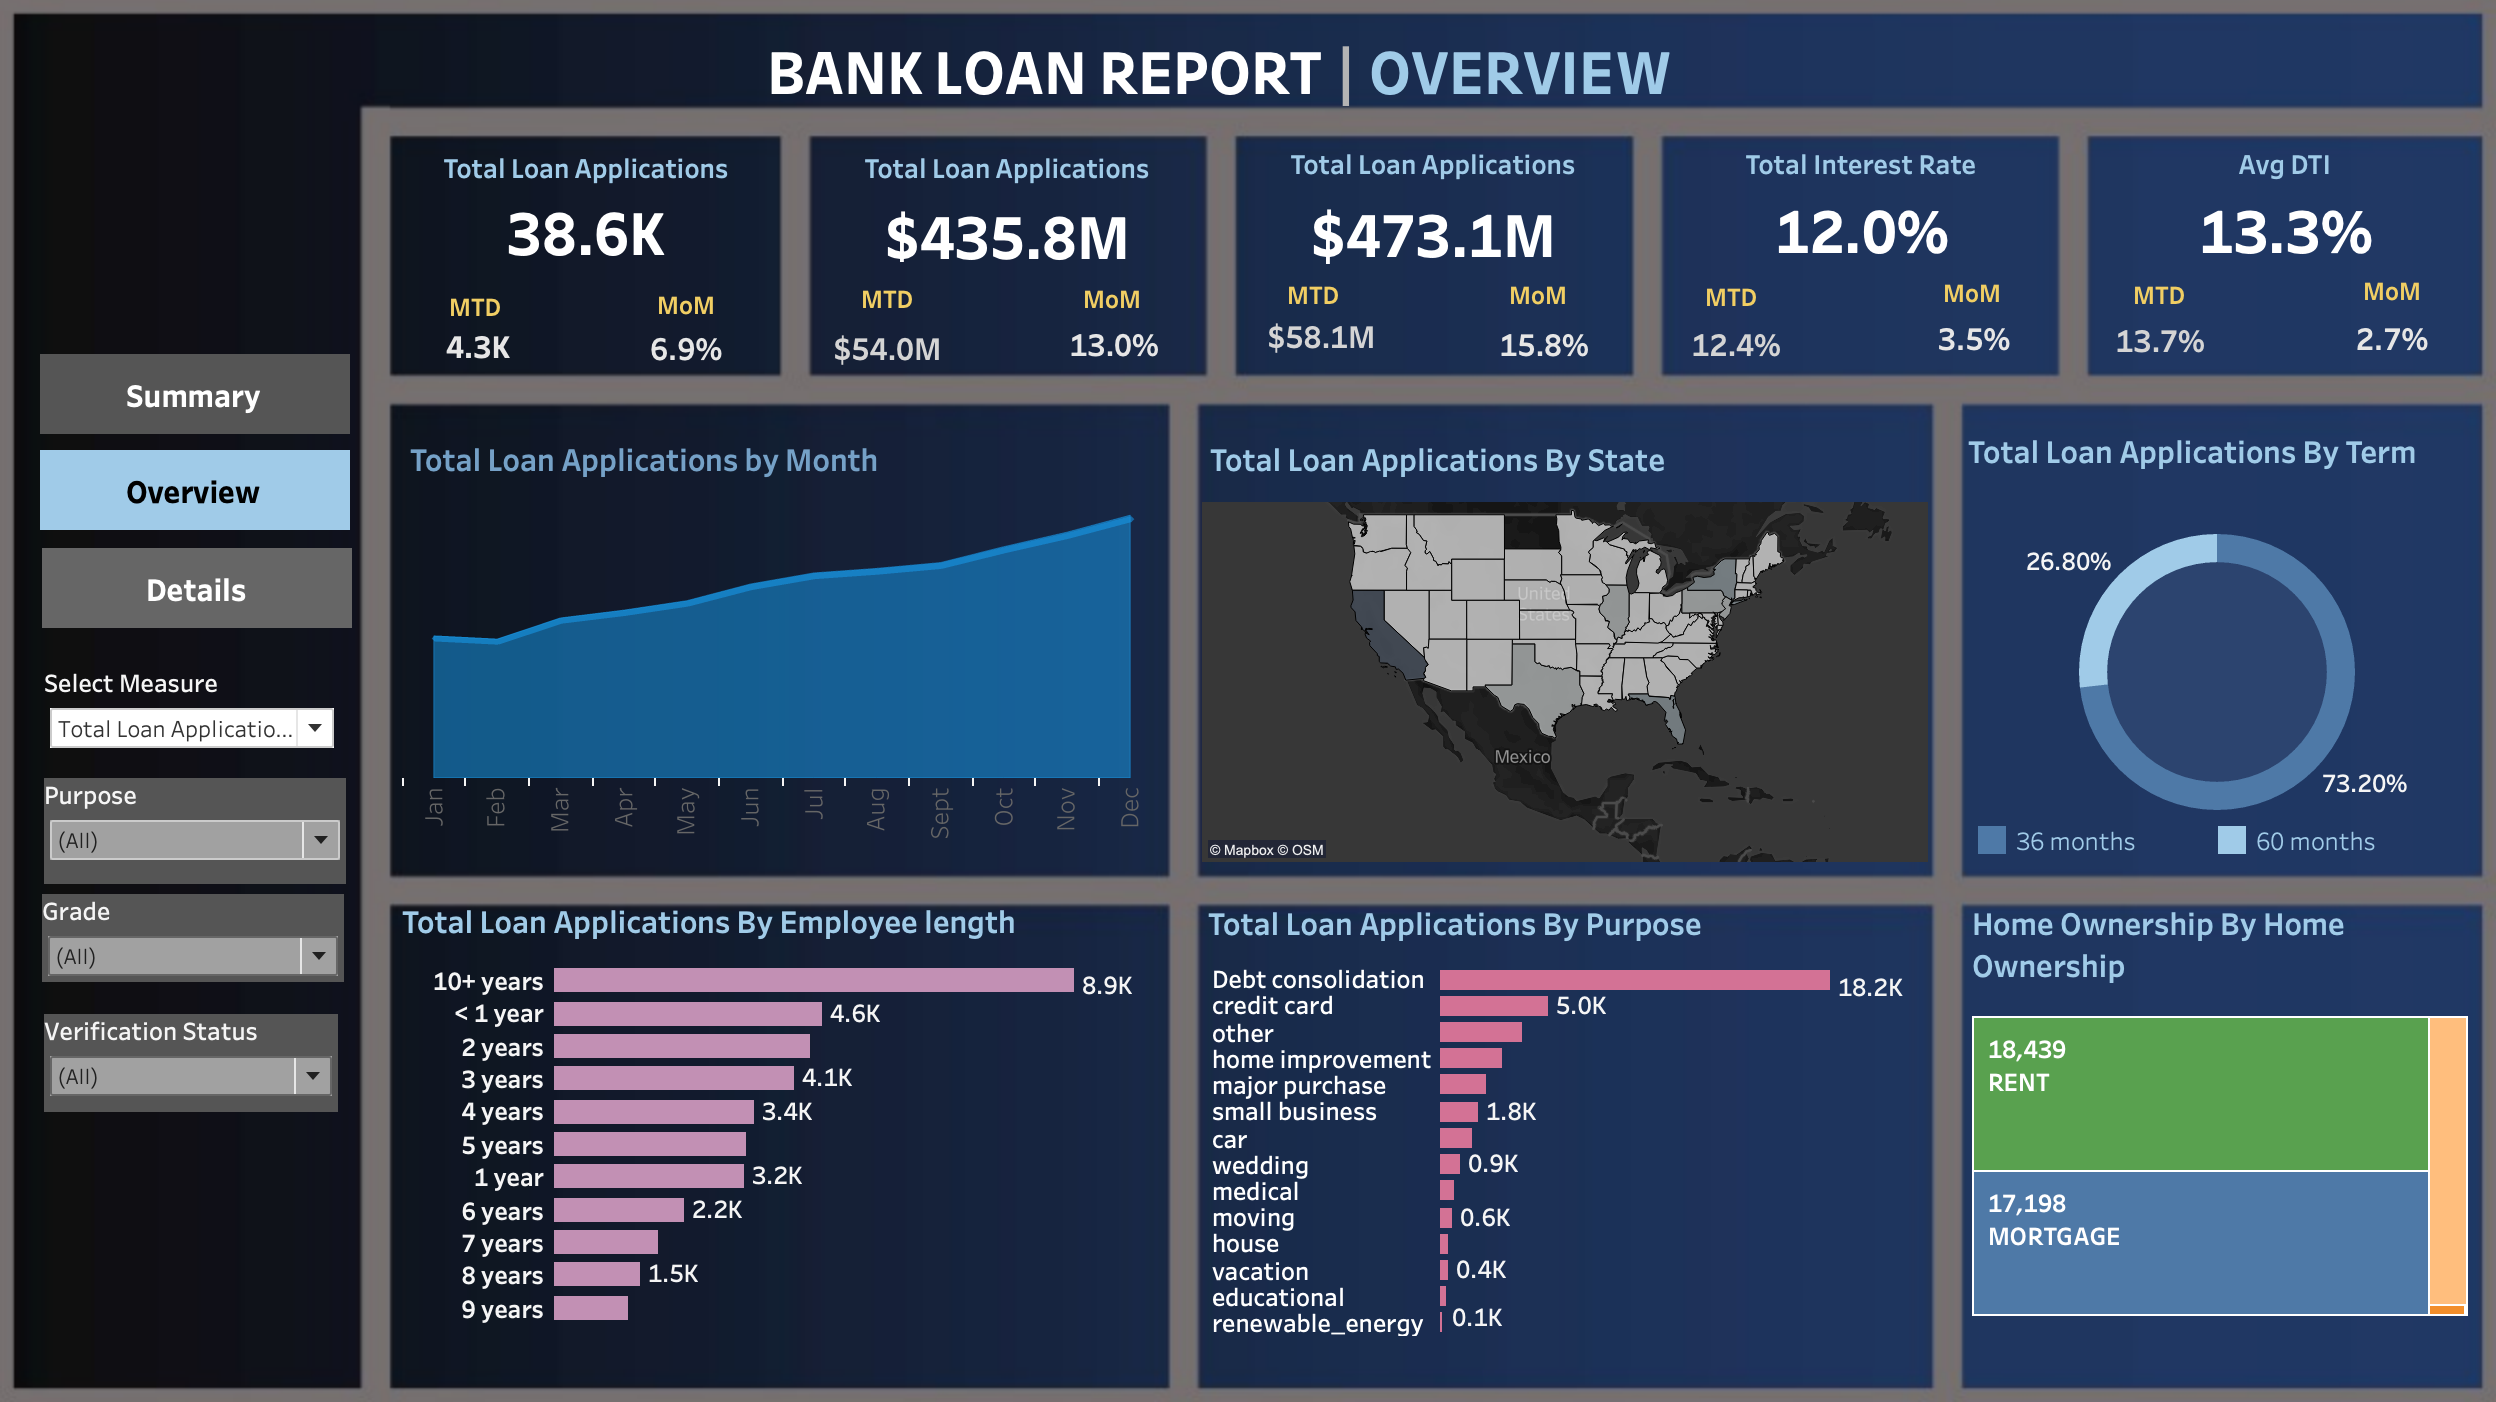

What the dashboard file says about the page in this screenshot:
{"tool":"tableau","page":{"name":"Overview","canvas":[1000,1000],"units":"permille","ordinal":1},"visuals":[{"type":"image","param":"/Users/namanmodi/Desktop/data analyst/SQL_Tableau/Tableau Background 2.jpg","box":[6.8,10.5,986.5,978.9]},{"type":"text","box":[306.9,84.3,421.8,46.1]},{"type":"worksheet","title":"Total Loan Applications","mark":"Automatic","box":[164.8,150.2,153,75.1]},{"type":"worksheet","title":"Total Funded Amount","mark":"Automatic","box":[328.8,151.5,154.7,79]},{"type":"worksheet","title":"Avg Interest Rate","mark":"Automatic","box":[661,152.8,156.4,77.7]},{"type":"worksheet","title":"Total Amount Recieved","mark":"Automatic","box":[495.4,154.2,156.4,76.4]},{"type":"worksheet","title":"Avg DTI","mark":"Automatic","box":[829.2,154.2,154.7,77.7]},{"type":"text","box":[512.3,230.6,25.4,32.9]},{"type":"text","box":[183.4,233.2,25.4,32.9]},{"type":"text","box":[266.3,233.2,28.7,32.9]},{"type":"text","box":[345.7,234.5,25.4,32.9]},{"type":"text","box":[676.2,234.5,25.4,32.9]},{"type":"text","box":[601,235.8,29.6,32.9]},{"type":"text","box":[934.9,235.8,25.4,32.9]},{"type":"text","box":[773.5,237.2,27.9,26.4]},{"type":"text","box":[844.5,237.2,25.4,32.9]},{"type":"text","box":[433.6,238.5,26.2,22.4]},{"type":"worksheet","title":"MTD Total Funded Amount","mark":"Automatic","box":[333.9,242.4,53.2,67.2]},{"type":"worksheet","title":"MoM Total Funded Amount","mark":"Automatic","box":[424.3,249,51.6,56.6]},{"type":"worksheet","title":"MTD Total Amount Recieved","mark":"Automatic","box":[501.3,251.7,53.2,50.1]},{"type":"worksheet","title":"MTD Avg Int Rate","mark":"Automatic","box":[662.7,253,55.8,46.1]},{"type":"worksheet","title":"MoM Total Amount Recieved","mark":"Automatic","box":[593.4,254.3,44.8,43.5]},{"type":"worksheet","title":"MoM Avg Int Rate","mark":"Automatic","box":[763.3,254.3,49.9,44.8]},{"type":"worksheet","title":"MTD Avg DTI","mark":"Automatic","box":[836,256.9,46.5,42.2]},{"type":"worksheet","title":"MoM Avg DTI","mark":"Automatic","box":[921.4,258.2,55.8,38.2]},{"type":"worksheet","title":"MoM Loan Applications","mark":"Automatic","box":[262.1,260.9,37.2,35.6]},{"type":"worksheet","title":"MTD Total Loan Applications","mark":"Automatic","box":[175.8,267.5,41.4,23.7]},{"type":"dashboard-object","box":[25.4,271.4,121.8,52.7]},{"type":"worksheet","title":"Term","mark":"Pie","rows":["Calculation_404057362442485800","Calculation_404057362442539050"],"box":[780.2,316.2,202,281.9]},{"type":"worksheet","title":"Month","mark":"Line","rows":["Calculation_404057362386935846","Calculation_404057362386935846"],"cols":["issue_date"],"box":[167.4,321.5,298.4,281.9]},{"type":"worksheet","title":"State","mark":"Multipolygon","box":[481.8,321.5,285.7,284.6]},{"type":"dashboard-object","box":[25.4,334.7,121.8,52.7]},{"type":"dashboard-object","box":[26.2,399.2,121.8,52.7]},{"type":"parameter","param":"[Parameters].[Parameter 1]","box":[27.1,476.9,116.7,58]},{"type":"filter","title":"Avg DTI","param":"[federated.04y64lk14kpcn818f40231uultjz].[none:purpose:nk]","box":[27.1,550.7,118.3,69.8]},{"type":"legend","title":"Term","param":"[federated.04y64lk14kpcn818f40231uultjz].[none:term:nk]","box":[784.5,578.4,207.1,26.4]},{"type":"worksheet","title":"Emp Length","mark":"Automatic","rows":["emp_length"],"cols":["Calculation_404057362386935846"],"box":[164,625.8,304.3,284.6]},{"type":"filter","title":"Avg DTI","param":"[federated.04y64lk14kpcn818f40231uultjz].[none:grade:nk]","box":[26.2,627.1,118.3,58]},{"type":"worksheet","title":"Purpose","mark":"Automatic","rows":["purpose"],"cols":["Calculation_404057362386935846"],"box":[481,627.1,287.4,291.2]},{"type":"worksheet","title":"Home Ownership","mark":"Automatic","box":[781.7,627.1,200.5,292.5]},{"type":"filter","title":"Avg DTI","param":"[federated.04y64lk14kpcn818f40231uultjz].[none:verification_status:nk]","box":[27.1,706.2,115.8,64.6]}]}

Visuals, with their boxes on the dashboard's canvas, which has no fixed pixel size, in thousandths of its width and height (x1, y1, x2, y2). These are canvas units, not pixel positions in the 2496x1402 screenshot, which may show the page scaled, cropped or inside an application window:
image: 7 10 993 989
text: 307 84 729 130
"Total Loan Applications" worksheet: 165 150 318 225
"Total Funded Amount" worksheet: 329 152 484 230
"Avg Interest Rate" worksheet: 661 153 817 230
"Total Amount Recieved" worksheet: 495 154 652 231
"Avg DTI" worksheet: 829 154 984 232
text: 512 231 538 264
text: 183 233 209 266
text: 266 233 295 266
text: 346 234 371 267
text: 676 234 702 267
text: 601 236 631 269
text: 935 236 960 269
text: 774 237 801 264
text: 844 237 870 270
text: 434 238 460 261
"MTD Total Funded Amount" worksheet: 334 242 387 310
"MoM Total Funded Amount" worksheet: 424 249 476 306
"MTD Total Amount Recieved" worksheet: 501 252 554 302
"MTD Avg Int Rate" worksheet: 663 253 718 299
"MoM Total Amount Recieved" worksheet: 593 254 638 298
"MoM Avg Int Rate" worksheet: 763 254 813 299
"MTD Avg DTI" worksheet: 836 257 882 299
"MoM Avg DTI" worksheet: 921 258 977 296
"MoM Loan Applications" worksheet: 262 261 299 296
"MTD Total Loan Applications" worksheet: 176 268 217 291
dashboard-object: 25 271 147 324
"Term" worksheet (Pie marks): 780 316 982 598
"Month" worksheet (Line marks): 167 322 466 603
"State" worksheet (Multipolygon marks): 482 322 768 606
dashboard-object: 25 335 147 387
dashboard-object: 26 399 148 452
parameter: 27 477 144 535
"Avg DTI" filter: 27 551 145 620
"Term" legend: 784 578 992 605
"Emp Length" worksheet: 164 626 468 910
"Avg DTI" filter: 26 627 144 685
"Purpose" worksheet: 481 627 768 918
"Home Ownership" worksheet: 782 627 982 920
"Avg DTI" filter: 27 706 143 771
